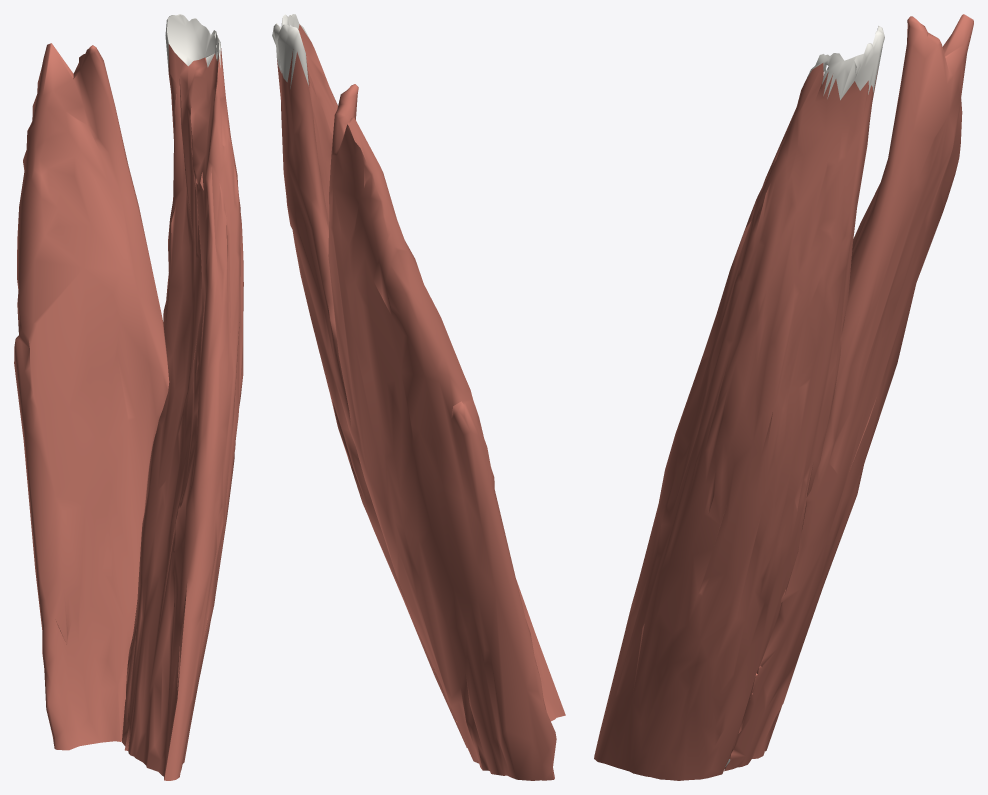
Rendered from flechisseur-ulnaire-carpe.glb.
The picture shows the model from 3 angles, left to right: view 1: azimuth 30°, elevation 25°; view 2: azimuth 150°, elevation 25°; view 3: azimuth 270°, elevation 25°; orthographic projection. The views are drawn at different scales.
Parts seen in each view (by area): view 1: flechisseur-ulnaire-carpe; view 2: flechisseur-ulnaire-carpe; view 3: flechisseur-ulnaire-carpe.
Boxes of the visible parts, <box> form: flechisseur-ulnaire-carpe: <box>14,14,243,780</box>; flechisseur-ulnaire-carpe: <box>272,14,565,780</box>; flechisseur-ulnaire-carpe: <box>594,14,973,780</box>.
Size of the model in its own units: 0.046 by 0.1399 by 0.0603.
